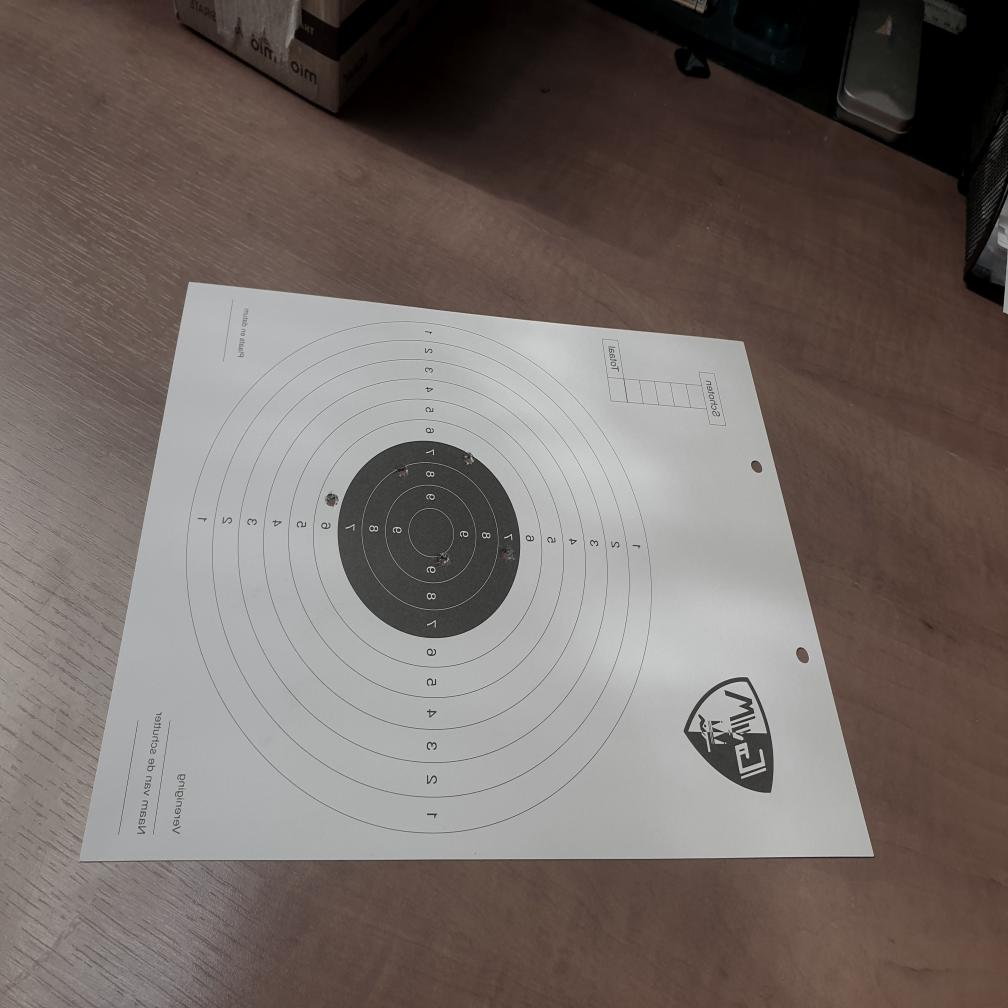10: (435, 551, 452, 570)
6: (323, 491, 340, 509)
7: (498, 544, 515, 562), (461, 451, 476, 465)
8: (393, 462, 409, 478)
Target: (184, 318, 653, 835)
black_contour: (338, 440, 520, 638)
